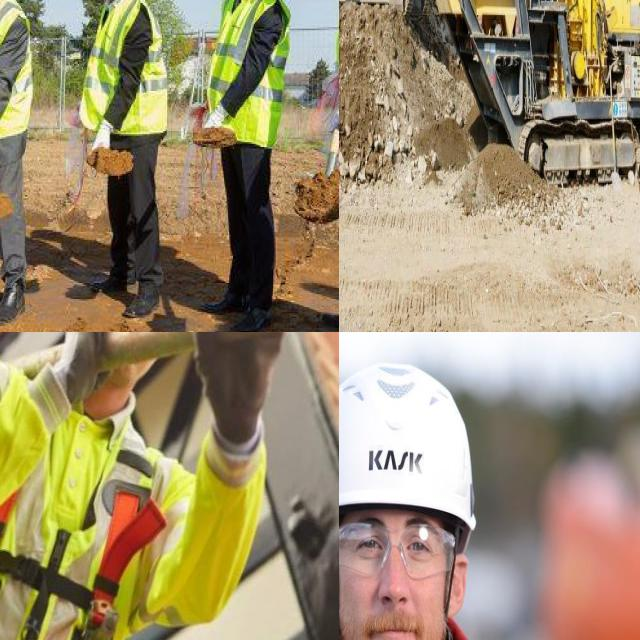Harness: (0, 450, 165, 640)
boots: (120, 276, 164, 320), (0, 277, 32, 326), (322, 285, 339, 330)
face_nomask: (339, 508, 464, 640)
glasses: (339, 518, 461, 579)
hand_glove: (88, 121, 115, 155), (203, 107, 228, 139), (328, 94, 339, 145)
head_helmet: (339, 350, 483, 544)
person: (339, 348, 613, 640), (81, 0, 169, 315), (207, 0, 280, 327), (0, 0, 36, 316)
shoes: (223, 284, 278, 332)
vest: (84, 0, 160, 142), (209, 0, 286, 140), (0, 0, 31, 142)
